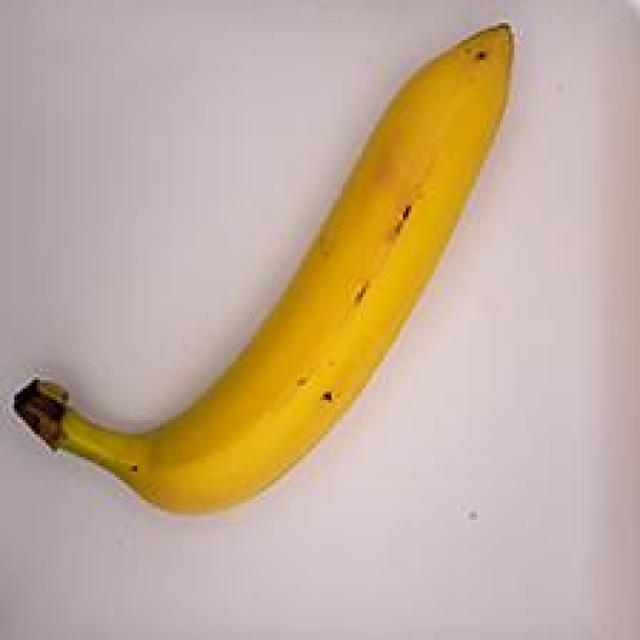Ripe: (2, 3, 530, 542)
